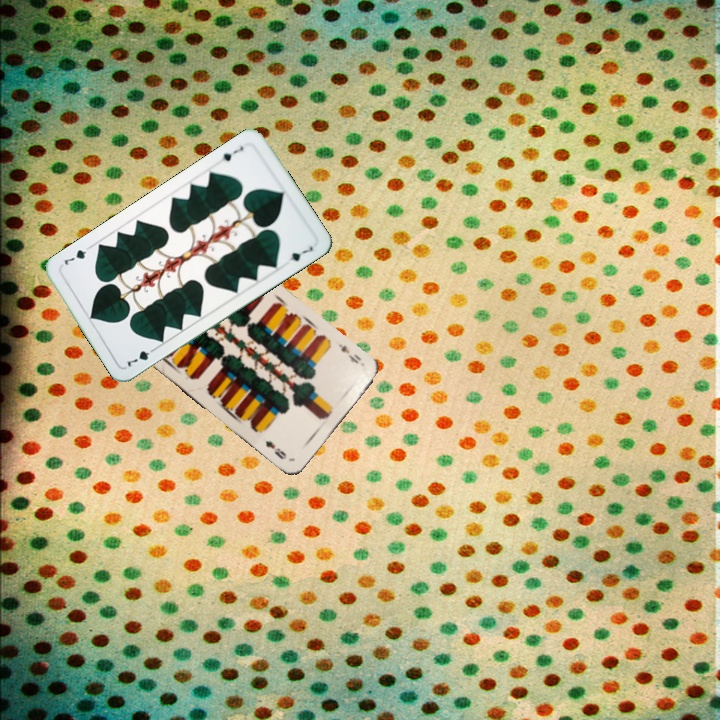E9: (335, 340, 364, 366)
G7: (123, 343, 159, 370), (214, 142, 246, 164)
